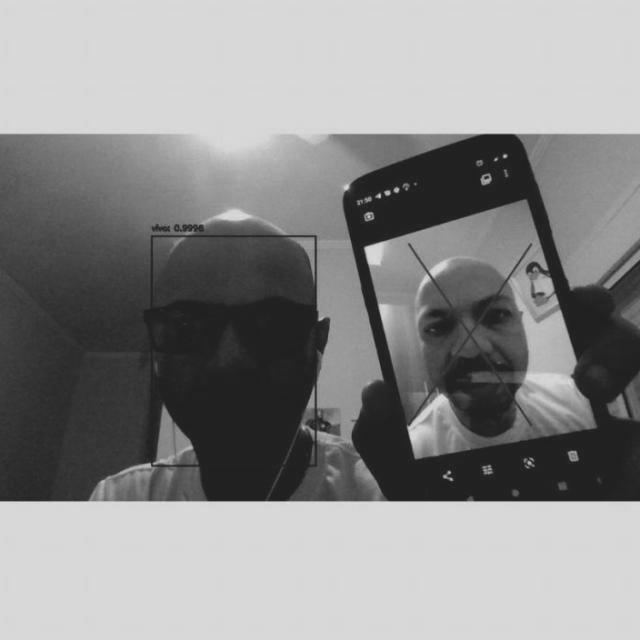fake: (346, 144, 630, 494)
real: (157, 245, 307, 450)
